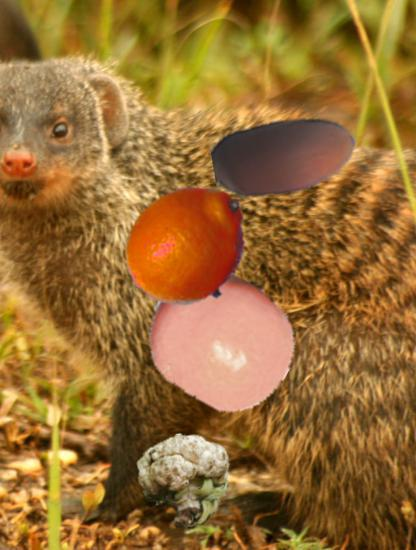Cauliflower: (137, 433, 236, 532)
Clementine: (147, 266, 296, 415)
Hazelnut: (213, 85, 358, 230)
Tangelo: (123, 180, 256, 313)
